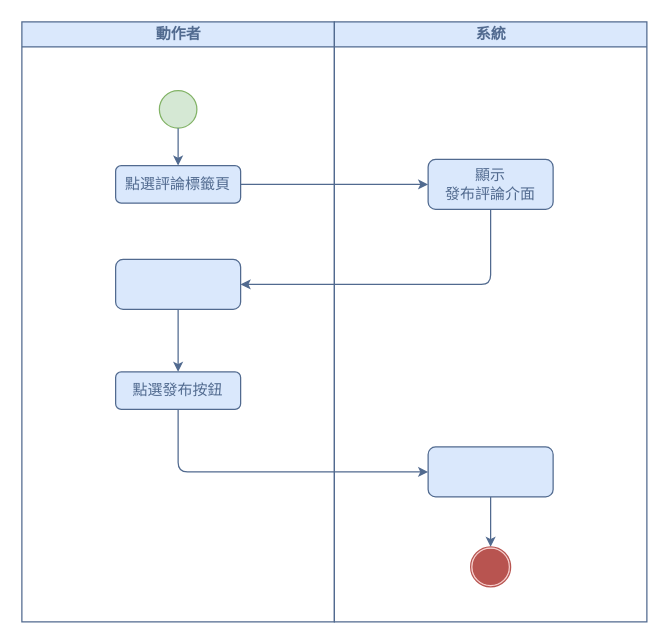
Some shapes in this 669 by 644 pixel diagram are drawn without their labels. Here are the shapes that lost their labels. From the top down, the centre of each, then its label:
(177,283): 選擇星等 和撰寫評論
(490,471): 儲存評論 至資料庫
